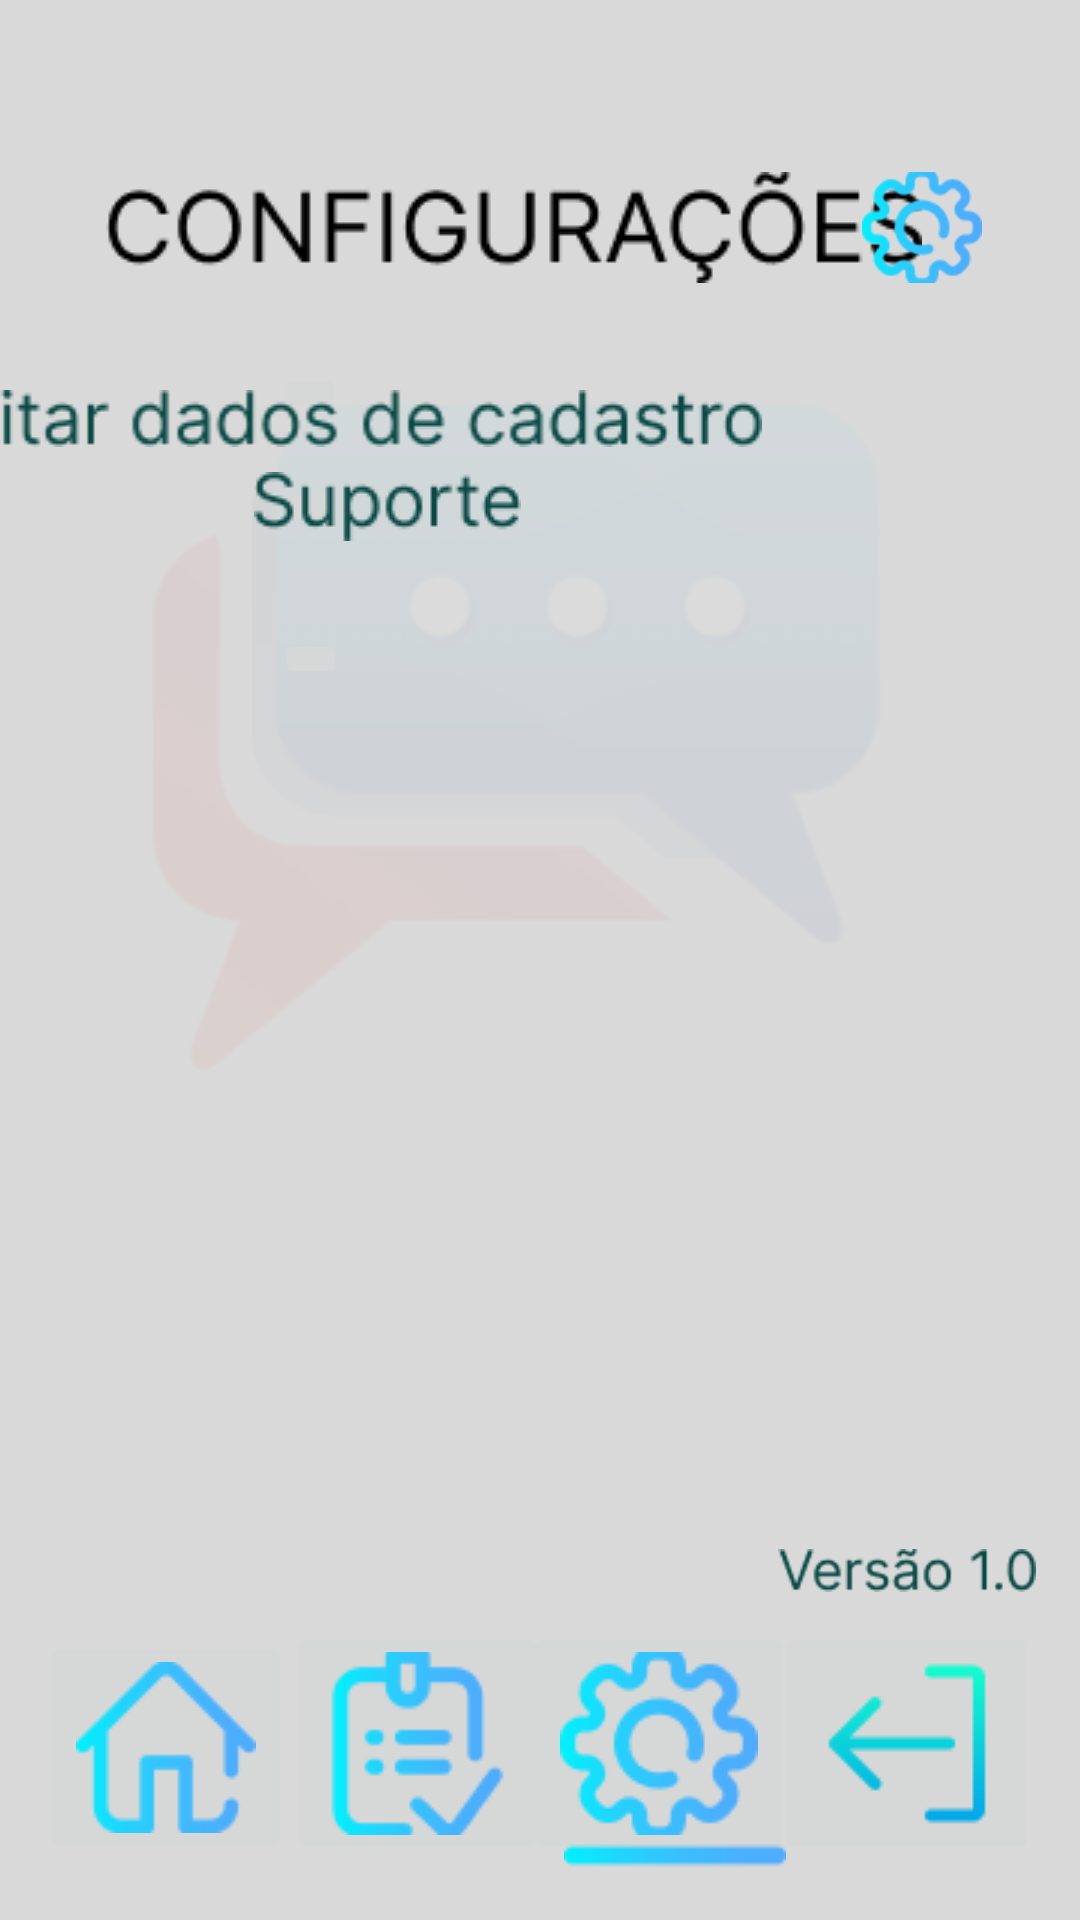

Icon click points for this 1080px×1920px phone screenshot, format (x=x, y=y):
iconehome: (x=166, y=1747)
iconelist: (x=417, y=1743)
iconesair: (x=907, y=1743)
